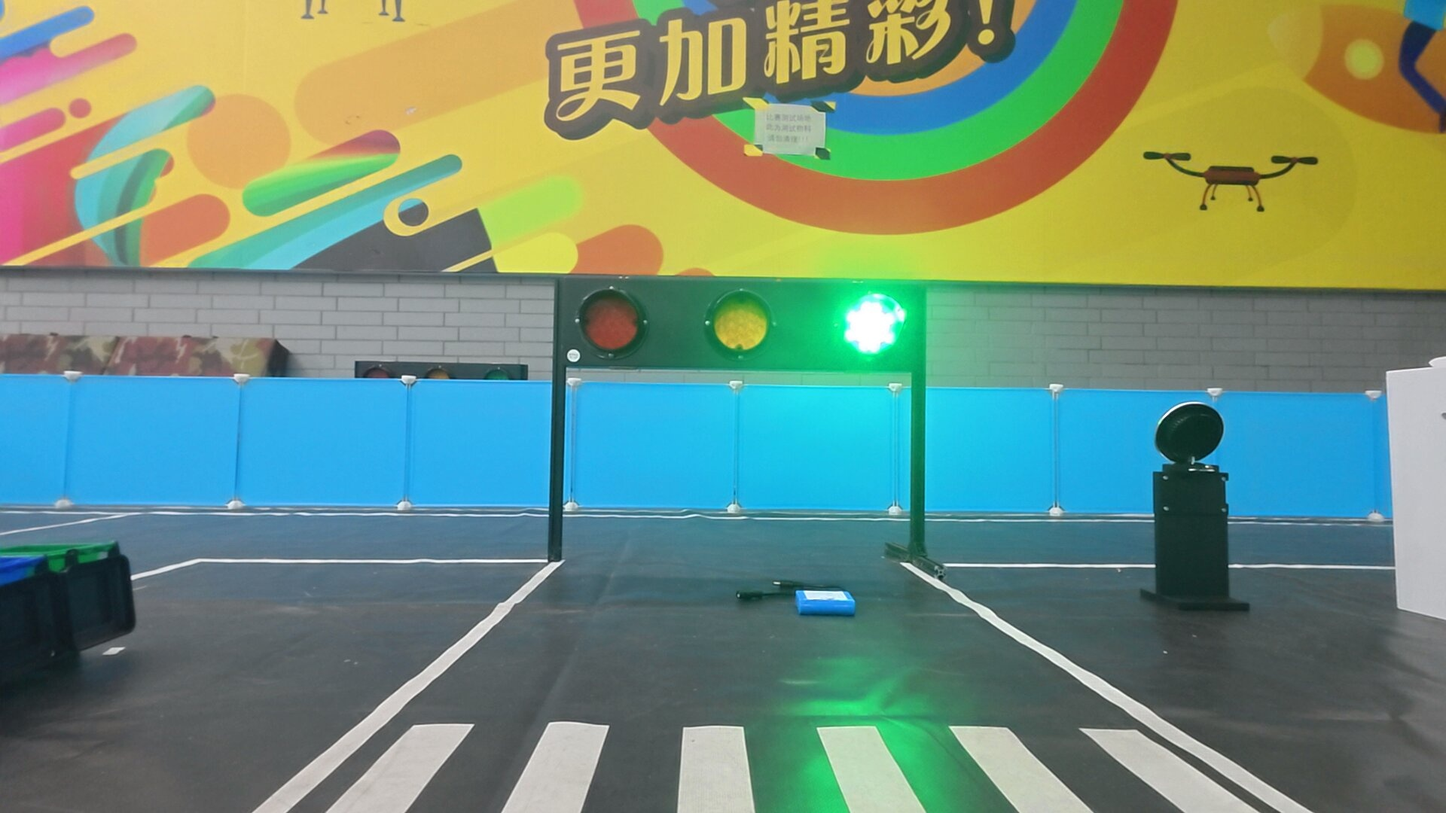go: (837, 287, 912, 365)
